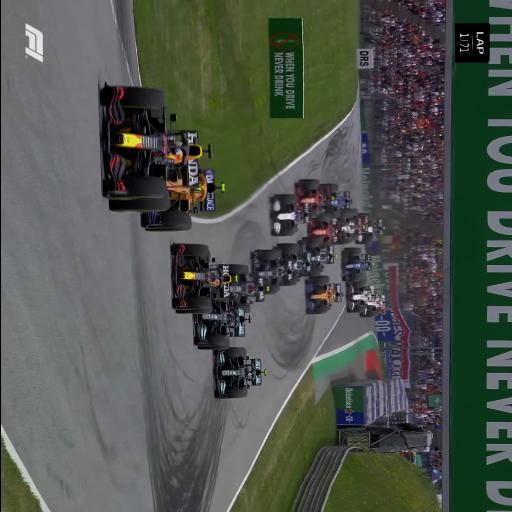f1_car: (100, 84, 203, 211), (141, 168, 224, 231), (171, 243, 231, 314), (194, 298, 250, 350), (215, 347, 266, 399), (228, 264, 267, 313), (251, 249, 292, 294), (271, 194, 309, 236), (273, 243, 309, 286), (298, 237, 336, 276), (305, 275, 343, 314), (294, 179, 326, 218), (334, 209, 366, 247), (319, 183, 351, 218), (341, 247, 373, 282), (308, 213, 338, 244), (346, 282, 375, 313), (356, 219, 385, 244), (359, 294, 386, 317), (204, 145, 211, 157), (192, 134, 195, 137), (195, 134, 197, 138), (358, 214, 359, 215)
